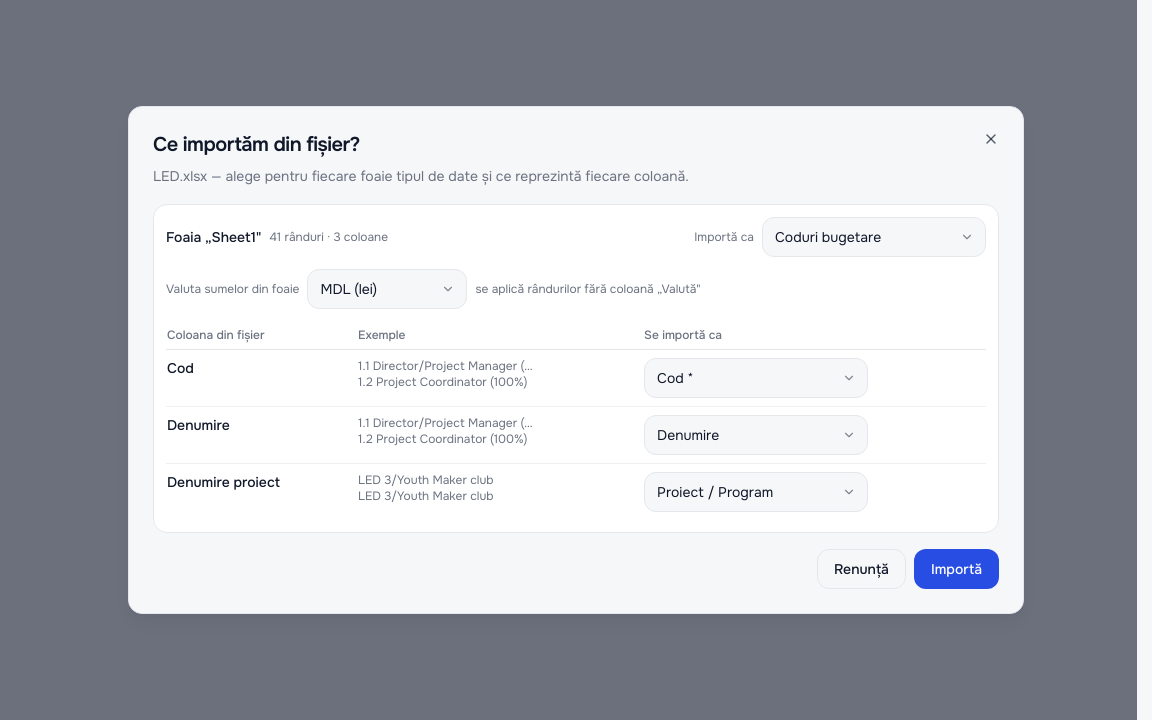
Test case: ParImportMappingDialog › can skip a sheet entirely
Select "— nu importa foaia —" in the dropdown labelled "Importă ca". click: (874, 237)
box: [762,217,986,257]
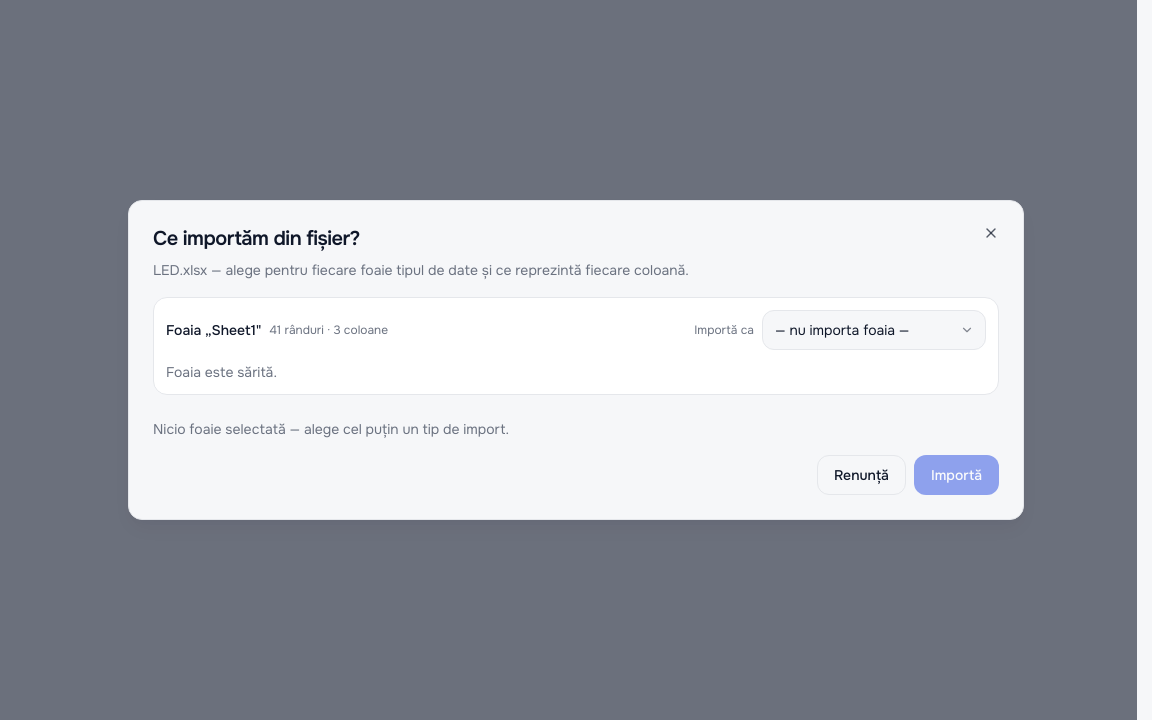
Check: the text "Foaia este sărită." is shown, box [166,363,277,381]
Check: the button "Importă" is disabled, box [914,455,999,495]
